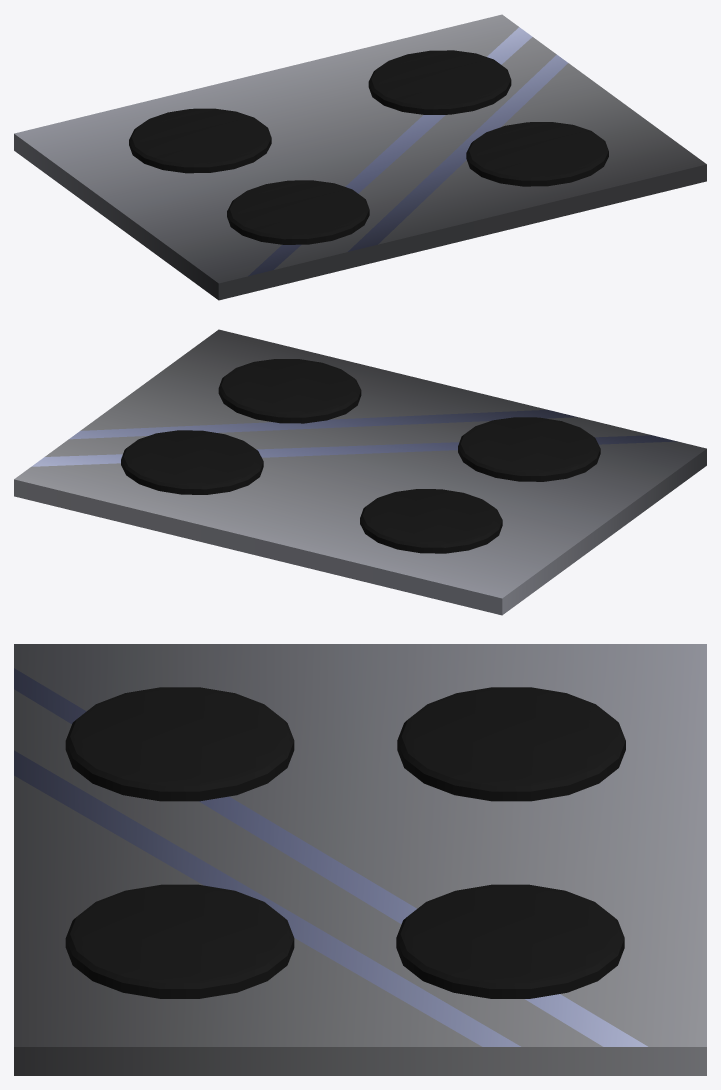
Rendered from Cooker_4.fbx.
The picture shows the model from 3 angles, top to bottom: view 1: azimuth 30°, elevation 25°; view 2: azimuth 150°, elevation 25°; view 3: azimuth 270°, elevation 25°; orthographic projection. The views are drawn at different scales.
Parts seen in each view (by area): view 1: Cooker; view 2: Cooker; view 3: Cooker.
Boxes of the visible parts, <box> form: Cooker: <box>14,14,706,300</box>; Cooker: <box>14,329,706,615</box>; Cooker: <box>14,644,706,1075</box>.
Bounding box in the file's own units: 1.14 × 0.0586 × 0.8292.
